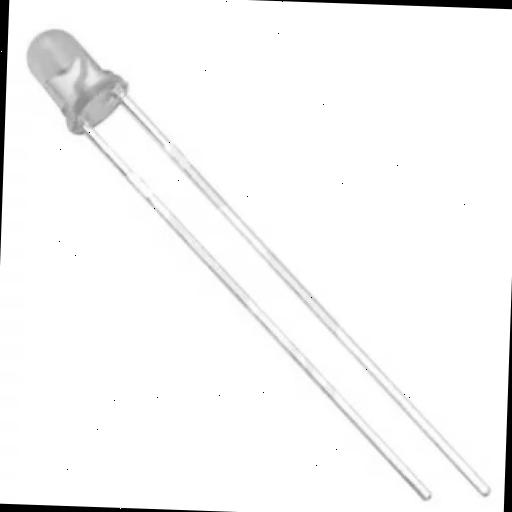LED: (12, 4, 422, 488)
